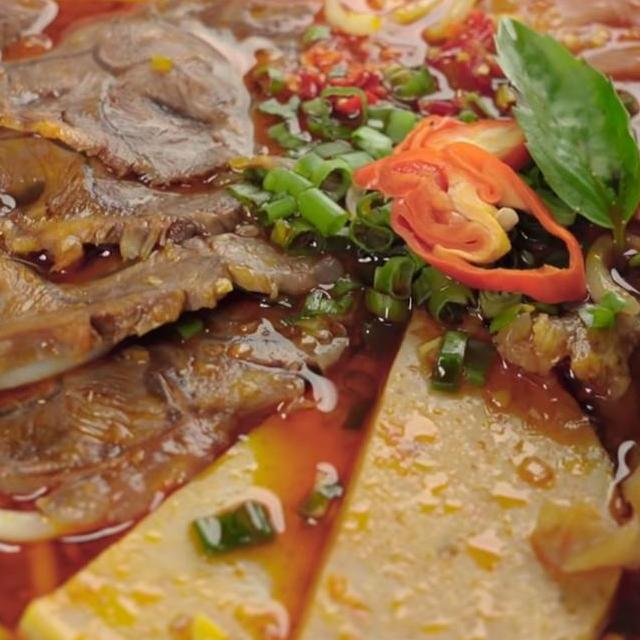bun: (4, 0, 575, 52), (0, 363, 95, 640)
bun bo: (0, 0, 640, 640)
thit bo: (0, 275, 359, 539), (0, 202, 359, 428), (0, 78, 321, 269), (0, 0, 285, 193)
